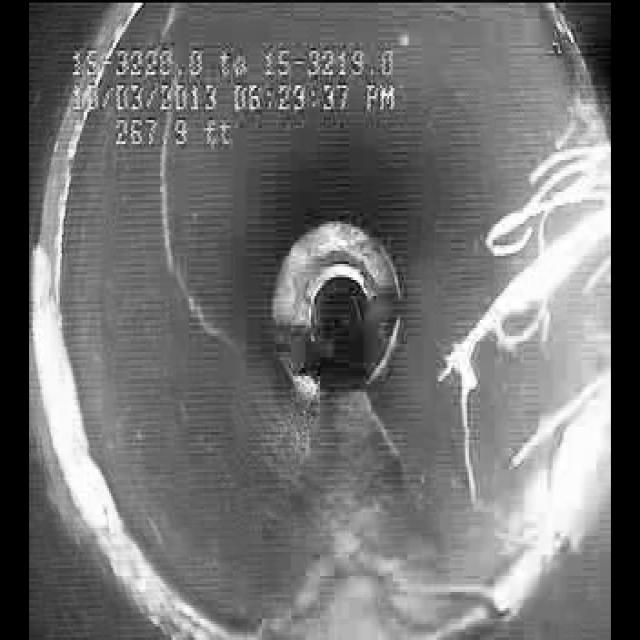Crack: (148, 156, 230, 368)
